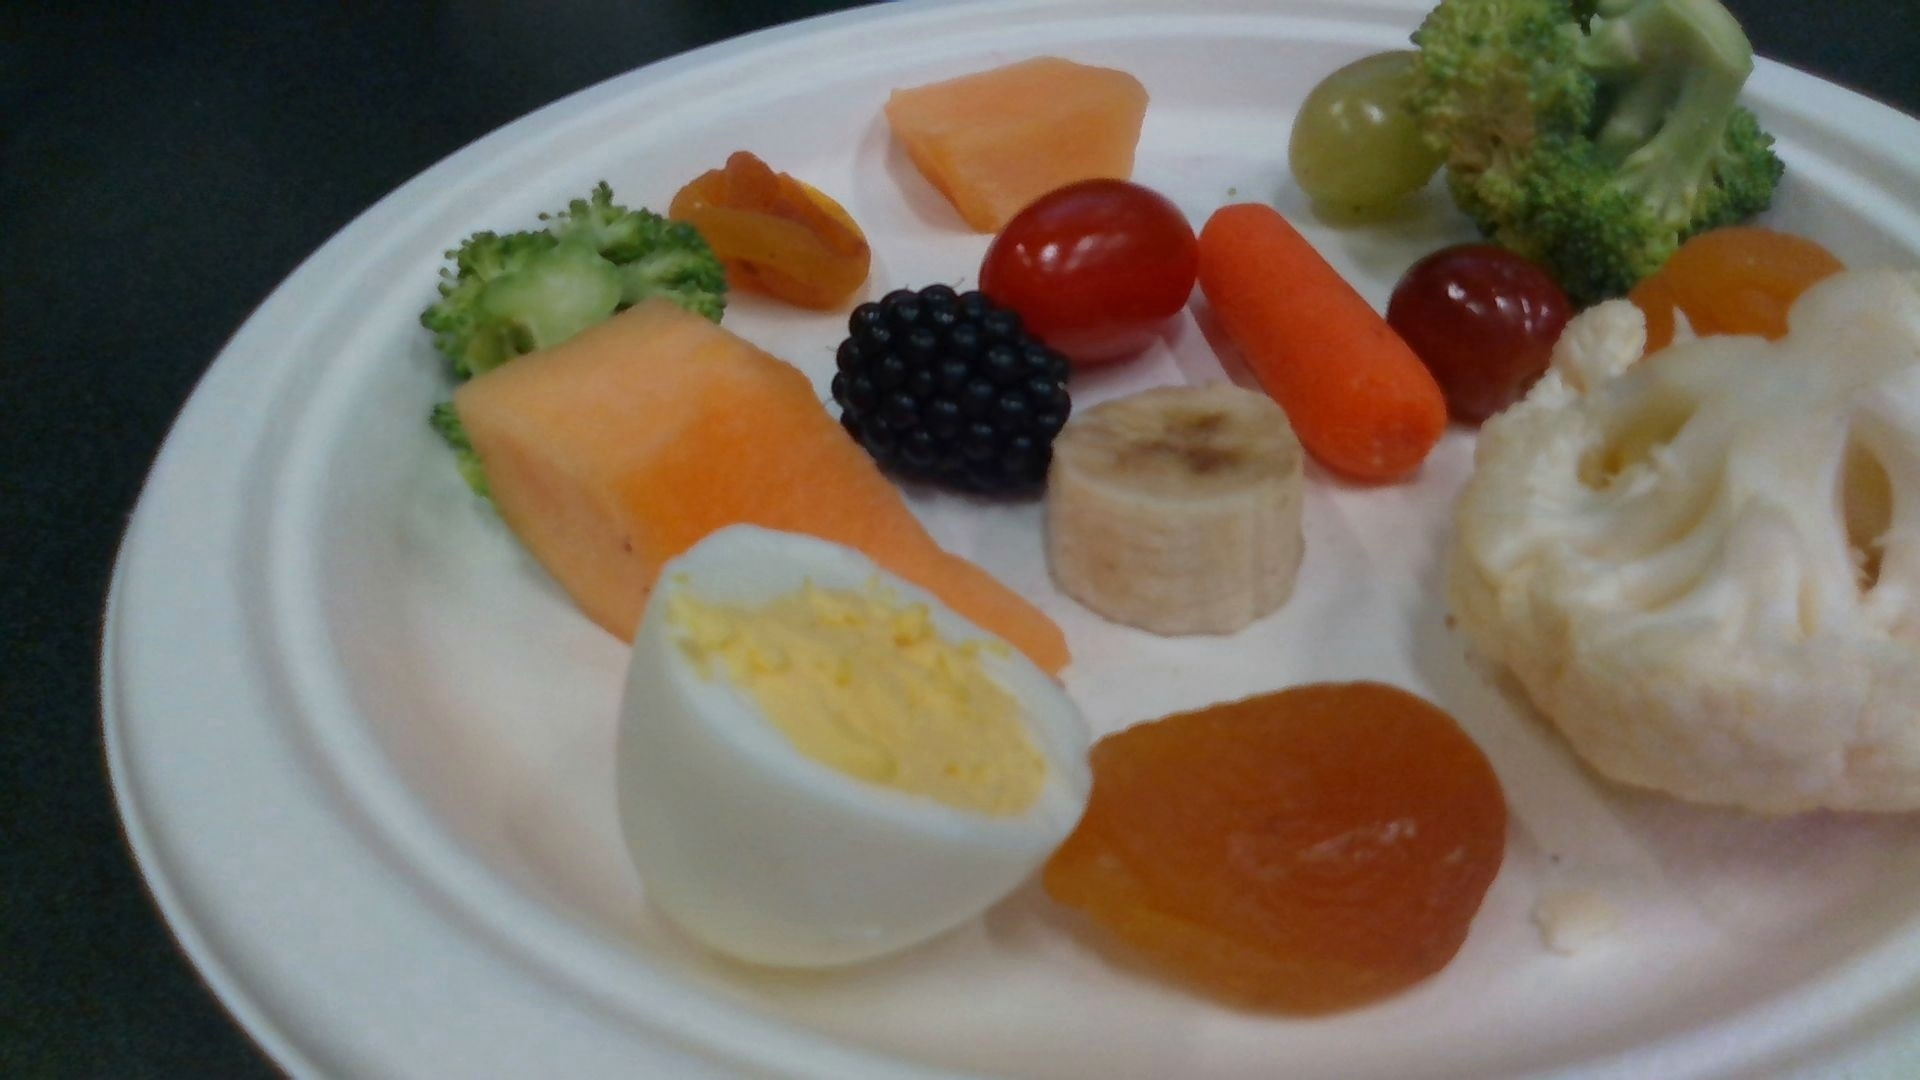apricot: (1044, 683, 1505, 1021), (674, 150, 870, 303)
banana: (1050, 386, 1309, 636)
blackberry: (839, 291, 1062, 491)
broccoli: (1414, 1, 1779, 295), (419, 191, 719, 480)
cantalope: (459, 303, 1069, 671), (887, 61, 1147, 231)
carrot: (1199, 204, 1445, 476)
cauliflower: (1457, 273, 1920, 811)
cherry_tomato: (977, 178, 1195, 365)
egg: (620, 525, 1091, 960)
grape_green: (1288, 55, 1451, 215)
grape_purple: (1389, 245, 1577, 419)
